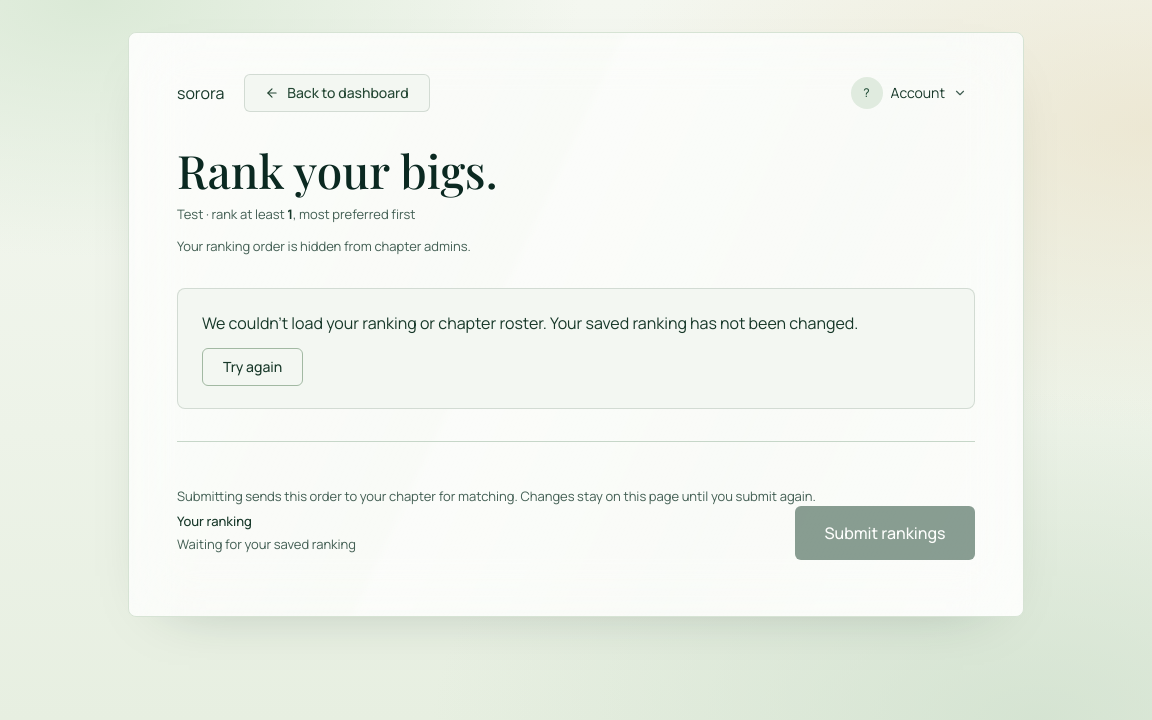
roster failure cannot seed an empty draft over existing rankings
Expected: the 1st message is shown, left=177, top=288, right=975, bottom=409
Expected: the button "Submit rankings" is disabled, left=795, top=506, right=975, bottom=560
Click the button "Try again" at (253, 367), box left=202, top=348, right=303, bottom=386
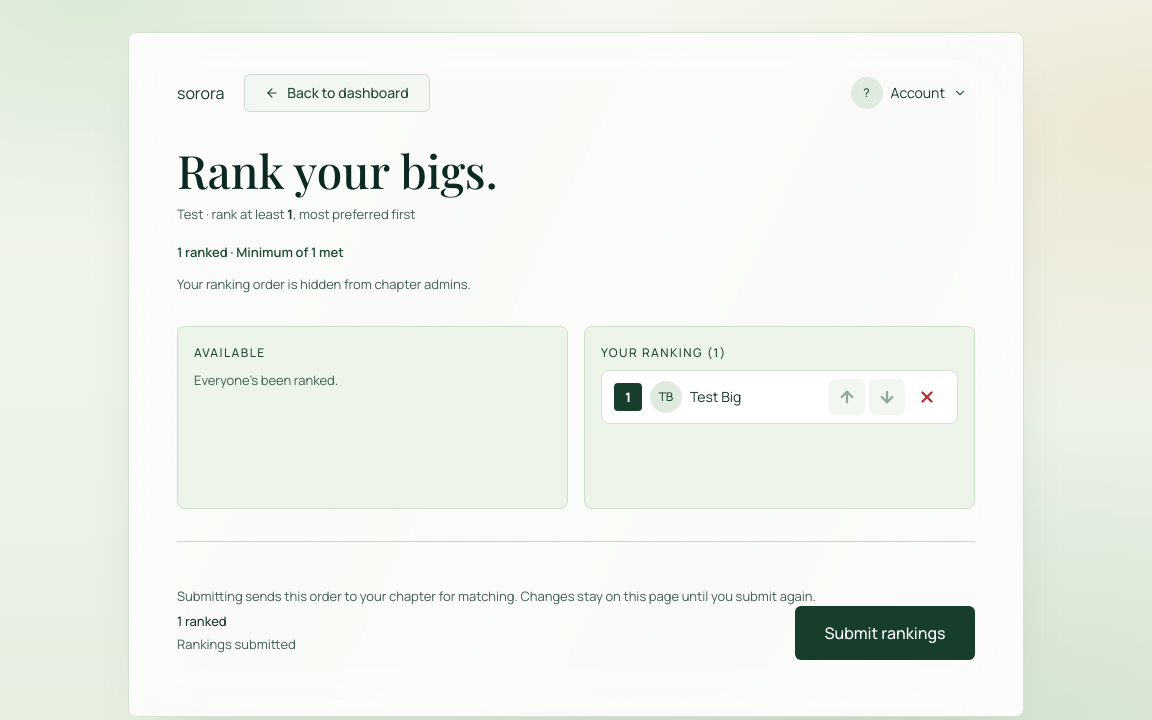
Now the text "Your ranking (1)" is shown, box left=601, top=344, right=727, bottom=361
Now the button "Submit rankings" is enabled, box left=795, top=606, right=975, bottom=660
